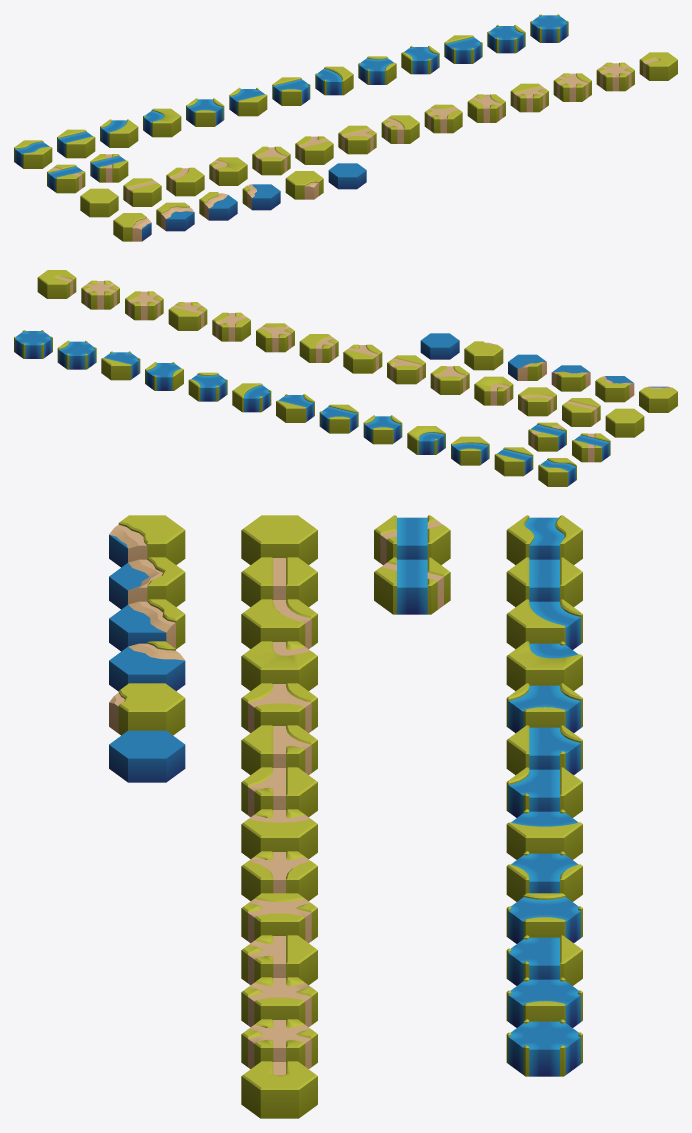
Rendered from hex-terrain.glb.
3 renders of one model, top to bottom at view 1: azimuth 30°, elevation 25°; view 2: azimuth 150°, elevation 25°; view 3: azimuth 270°, elevation 25°, orthographic. The views are drawn at different scales.
Parts seen in each view (by area): view 1: hex_grass, hex_road_F, hex_road_J, hex_road_H, hex_road_D, hex_road_B, hex_river_C, hex_river_G, hex_coast_B, hex_river_A, hex_river_crossing_A, hex_road_L (+23 smaller); view 2: hex_grass, hex_road_C, hex_river_G, hex_river_E, hex_river_A, hex_road_F, hex_river_H, hex_road_B, hex_road_E, hex_road_H, hex_road_K, hex_river_B (+23 smaller); view 3: hex_road_M, hex_river_crossing_B, hex_river_L, hex_water, hex_coast_E, hex_coast_A, hex_river_I, hex_river_F, hex_river_B, hex_river_J, hex_river_crossing_A, hex_grass (+23 smaller).
Part boxes in pixels (box(x1,y1,x2,y2)): hex_grass: box(80, 188, 118, 217); hex_road_F: box(338, 125, 376, 154); hex_road_J: box(510, 83, 548, 112); hex_road_H: box(424, 104, 462, 133); hex_road_D: box(252, 146, 290, 175); hex_road_B: box(166, 167, 204, 196); hex_river_C: box(143, 108, 181, 137); hex_river_G: box(315, 66, 353, 95); hex_coast_B: box(156, 202, 194, 231); hex_river_A: box(57, 129, 95, 158); hex_river_crossing_A: box(47, 164, 85, 193); hex_road_L: box(596, 62, 634, 91); hex_grass: box(605, 408, 644, 437); hex_road_C: box(474, 376, 513, 405); hex_river_G: box(232, 383, 271, 412); hex_river_E: box(319, 404, 358, 433); hex_river_A: box(494, 447, 533, 476); hex_road_F: box(343, 344, 382, 373); hex_river_H: box(188, 372, 227, 401); hex_road_B: box(518, 387, 556, 416); hex_road_E: box(387, 355, 425, 384); hex_road_H: box(256, 323, 294, 352); hex_road_K: box(125, 291, 163, 320); hex_river_B: box(451, 436, 489, 465); hex_road_M: box(241, 1061, 317, 1118); hex_river_crossing_B: box(374, 557, 450, 614); hex_river_L: box(506, 1019, 582, 1076); hex_water: box(109, 730, 185, 782); hex_coast_E: box(109, 683, 185, 735); hex_coast_A: box(109, 515, 185, 567); hex_river_I: box(506, 893, 582, 943); hex_river_F: box(506, 767, 582, 817); hex_river_B: box(506, 599, 582, 649); hex_river_J: box(506, 935, 582, 985); hex_river_crossing_A: box(374, 515, 450, 565); hex_grass: box(241, 515, 317, 565).
Size of the model in its own units: 41 by 1 by 14.31.
1 material, 1 textured.
